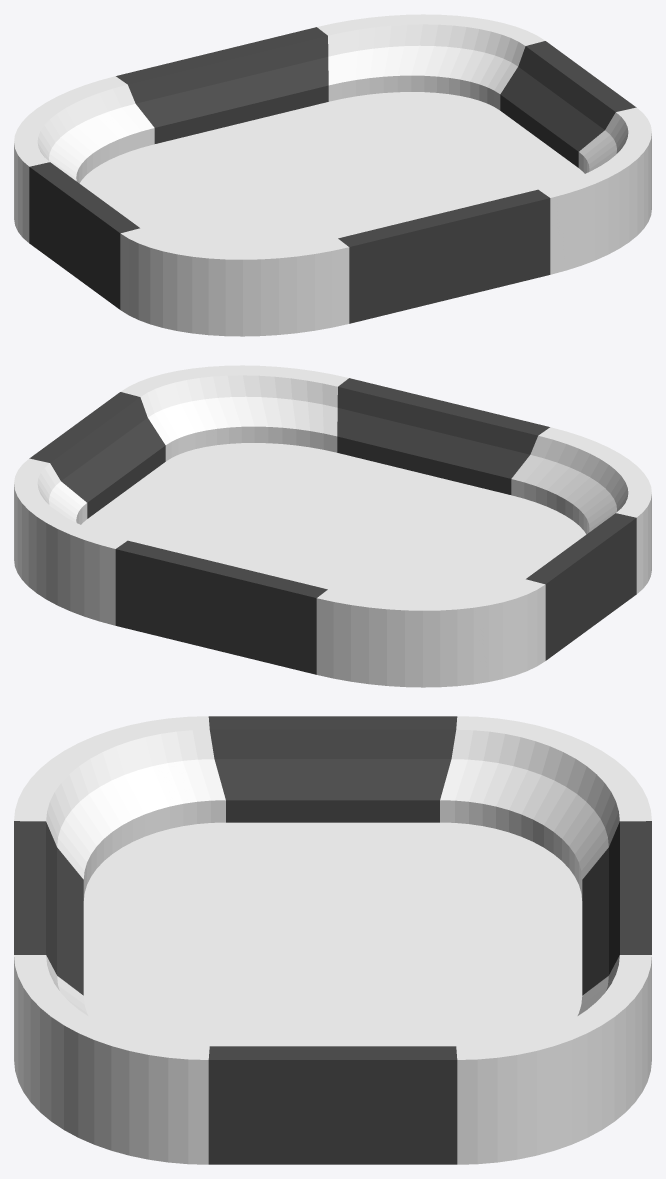
The model's file is Res01_Plate4.fbx.
3 views of the same model, one above another, from view 1: azimuth 30°, elevation 25°; view 2: azimuth 150°, elevation 25°; view 3: azimuth 270°, elevation 25° (orthographic). The views are drawn at different scales.
Parts seen in each view (by area): view 1: Res01_Plate4; view 2: Res01_Plate4; view 3: Res01_Plate4.
Boxes of the visible parts, x1,y1,x2,y2 form: Res01_Plate4: (14, 14, 651, 336); Res01_Plate4: (14, 365, 651, 687); Res01_Plate4: (14, 716, 651, 1164).
Size of the model in its own units: 65.79 by 9.35 by 51.58.
